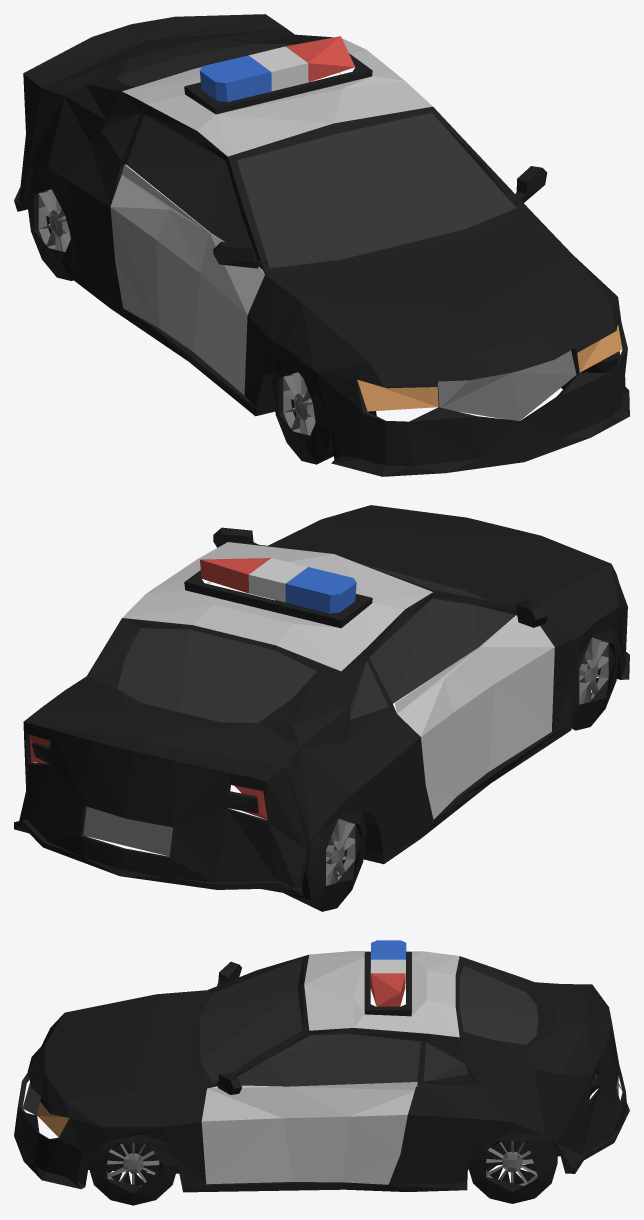
The model's file is police_lod.glb.
The picture shows the model from 3 angles, top to bottom: view 1: azimuth 30°, elevation 25°; view 2: azimuth 150°, elevation 25°; view 3: azimuth 270°, elevation 25°; orthographic projection. The views are drawn at different scales.
Parts seen in each view (by area): view 1: Cop_Cube.001, Cop_FrontRightWheel_Cylinder.012, Cop_BackWheels_Cylinder.001; view 2: Cop_Cube.001, Cop_BackWheels_Cylinder.001, Cop_FrontRightWheel_Cylinder.012; view 3: Cop_Cube.001, Cop_BackWheels_Cylinder.001, Cop_FrontLeftWheel_Cylinder.011.
Part boxes in pixels (<box>): Cop_Cube.001: <box>14,14,629,476</box>; Cop_FrontRightWheel_Cylinder.012: <box>272,360,333,464</box>; Cop_BackWheels_Cylinder.001: <box>27,173,73,280</box>; Cop_Cube.001: <box>14,505,629,896</box>; Cop_BackWheels_Cylinder.001: <box>37,743,366,911</box>; Cop_FrontRightWheel_Cylinder.012: <box>571,629,620,730</box>; Cop_Cube.001: <box>14,940,629,1192</box>; Cop_BackWheels_Cylinder.001: <box>468,1132,557,1203</box>; Cop_FrontLeftWheel_Cylinder.011: <box>88,1134,177,1205</box>.
Size of the model in its own units: 1.78 by 1.24 by 3.73.
